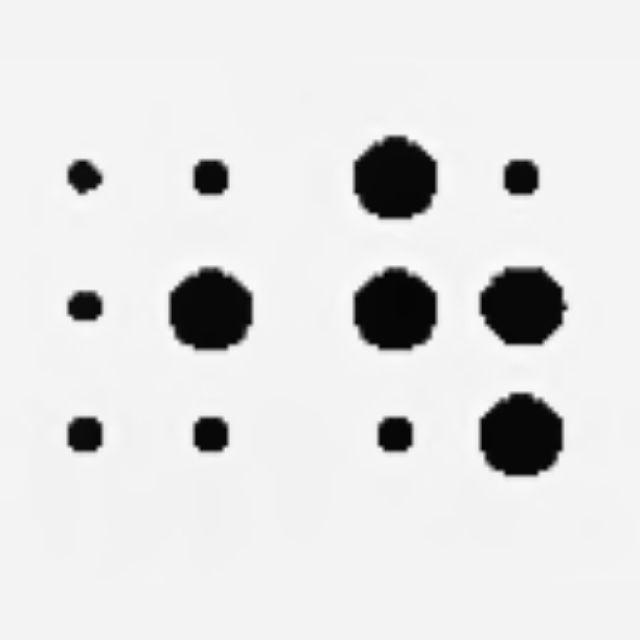dot_5: (43, 137, 254, 478)
tungkol: (351, 136, 562, 477)
